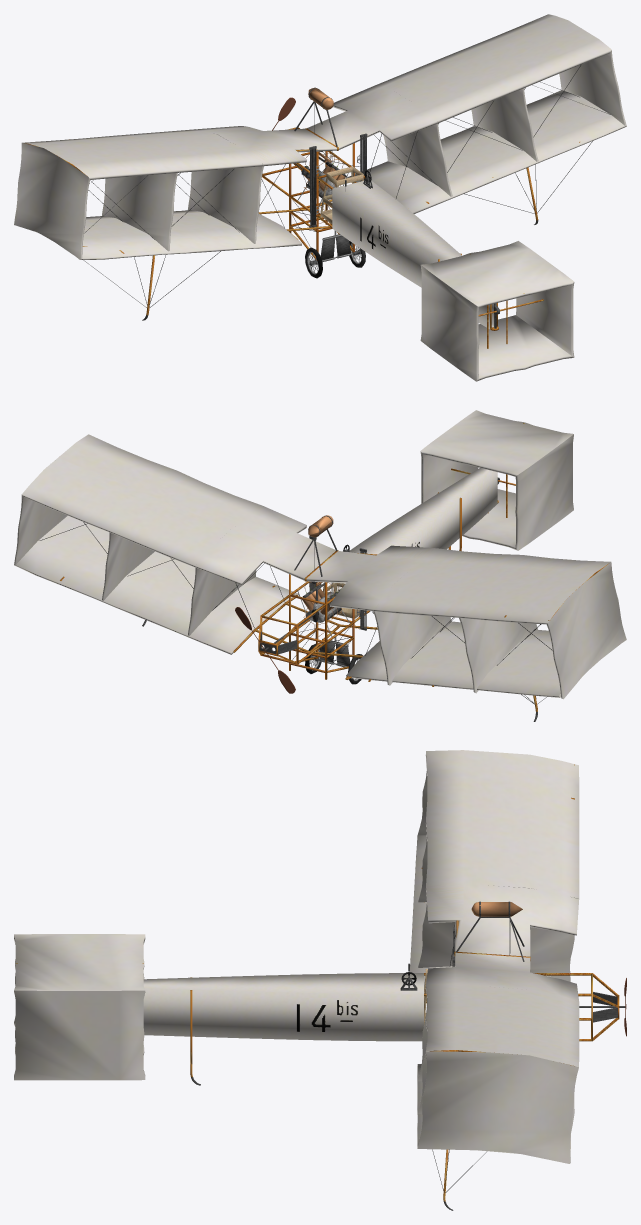
The model's file is 14_Bis.glb.
The picture shows the model from 3 angles, top to bottom: view 1: azimuth 30°, elevation 25°; view 2: azimuth 150°, elevation 25°; view 3: azimuth 270°, elevation 25°; orthographic projection. The views are drawn at different scales.
Visible parts, largest first — view 1: ailesH_ailesH.mesh, ailesB_ailesB.mesh, gouverneH_gouverneH.mesh, entreailes_entreailes.mesh, gouverneV_gouverneV.mesh, fuselage_fuselage.mesh, entreailes_entreailes.mesh.004, entreailes_entreailes.mesh.003, entreailes_entreailes.mesh.002, structure_structure.mesh, entreailes_entreailes.mesh.001, cables_cables.mesh (+3 smaller); view 2: ailesH_ailesH.mesh, ailesB_ailesB.mesh, entreailes_entreailes.mesh, gouverneH_gouverneH.mesh, gouverneV_gouverneV.mesh, fuselage_fuselage.mesh, structure_structure.mesh, entreailes_entreailes.mesh.004, entreailes_entreailes.mesh.003, entreailes_entreailes.mesh.002, entreailes_entreailes.mesh.001, moteur_moteur.mesh (+3 smaller); view 3: ailesH_ailesH.mesh, fuselage_fuselage.mesh, entreailes_entreailes.mesh, gouverneV_gouverneV.mesh, gouverneH_gouverneH.mesh, entreailes_entreailes.mesh.004, ailesB_ailesB.mesh, structure_structure.mesh, moteur_moteur.mesh.001.
Part boxes in pixels (x1,y1,x2,y2): ailesH_ailesH.mesh: (22, 14, 611, 179); ailesB_ailesB.mesh: (75, 90, 626, 259); gouverneH_gouverneH.mesh: (421, 241, 574, 381); entreailes_entreailes.mesh: (14, 50, 626, 259); gouverneV_gouverneV.mesh: (420, 265, 574, 381); fuselage_fuselage.mesh: (332, 181, 489, 329); entreailes_entreailes.mesh.004: (188, 129, 263, 243); entreailes_entreailes.mesh.003: (102, 173, 177, 251); entreailes_entreailes.mesh.002: (383, 121, 452, 196); structure_structure.mesh: (24, 127, 579, 330); entreailes_entreailes.mesh.001: (471, 88, 538, 161); cables_cables.mesh: (83, 64, 610, 308); ailesH_ailesH.mesh: (22, 434, 610, 624); ailesB_ailesB.mesh: (14, 516, 626, 697); entreailes_entreailes.mesh: (14, 494, 626, 699); gouverneH_gouverneH.mesh: (421, 410, 573, 550); gouverneV_gouverneV.mesh: (420, 434, 573, 550); fuselage_fuselage.mesh: (332, 468, 497, 611); structure_structure.mesh: (60, 492, 608, 721); entreailes_entreailes.mesh.004: (373, 572, 452, 685); entreailes_entreailes.mesh.003: (459, 618, 538, 693); entreailes_entreailes.mesh.002: (188, 567, 256, 635); entreailes_entreailes.mesh.001: (102, 532, 154, 600); moteur_moteur.mesh: (294, 515, 366, 636); ailesH_ailesH.mesh: (425, 750, 579, 1067); fuselage_fuselage.mesh: (143, 973, 423, 1041); entreailes_entreailes.mesh: (417, 771, 578, 1163); gouverneV_gouverneV.mesh: (14, 940, 145, 1080); gouverneH_gouverneH.mesh: (14, 934, 145, 1055); entreailes_entreailes.mesh.004: (418, 885, 578, 981); ailesB_ailesB.mesh: (409, 835, 570, 1156); structure_structure.mesh: (190, 764, 619, 1210); moteur_moteur.mesh.001: (471, 902, 522, 916).
Size of the model in its own units: 2.92 by 0.8658 by 2.4.
6 materials, 5 textured.
